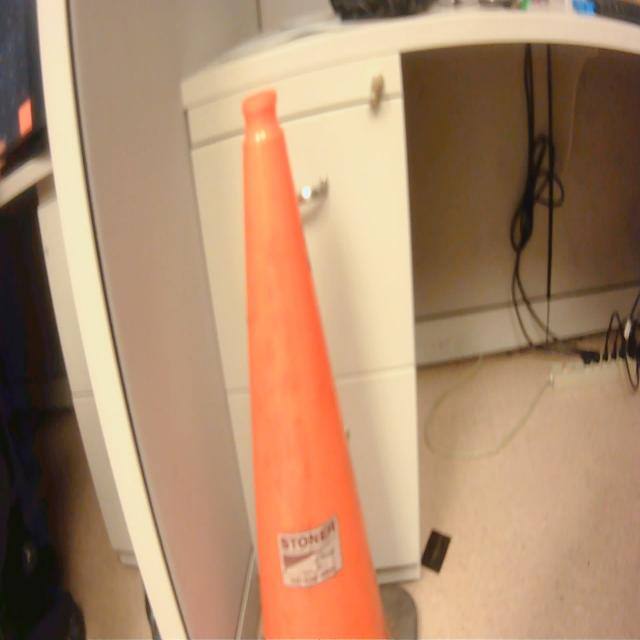traffic cone: (233, 81, 425, 640)
